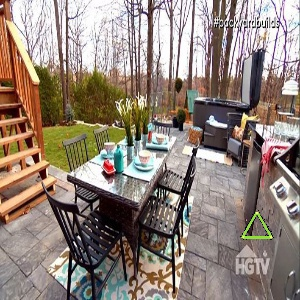triangle: (241, 208, 276, 244)
